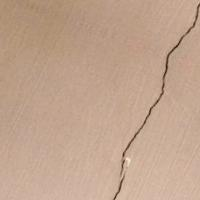crack: (104, 0, 199, 199)
